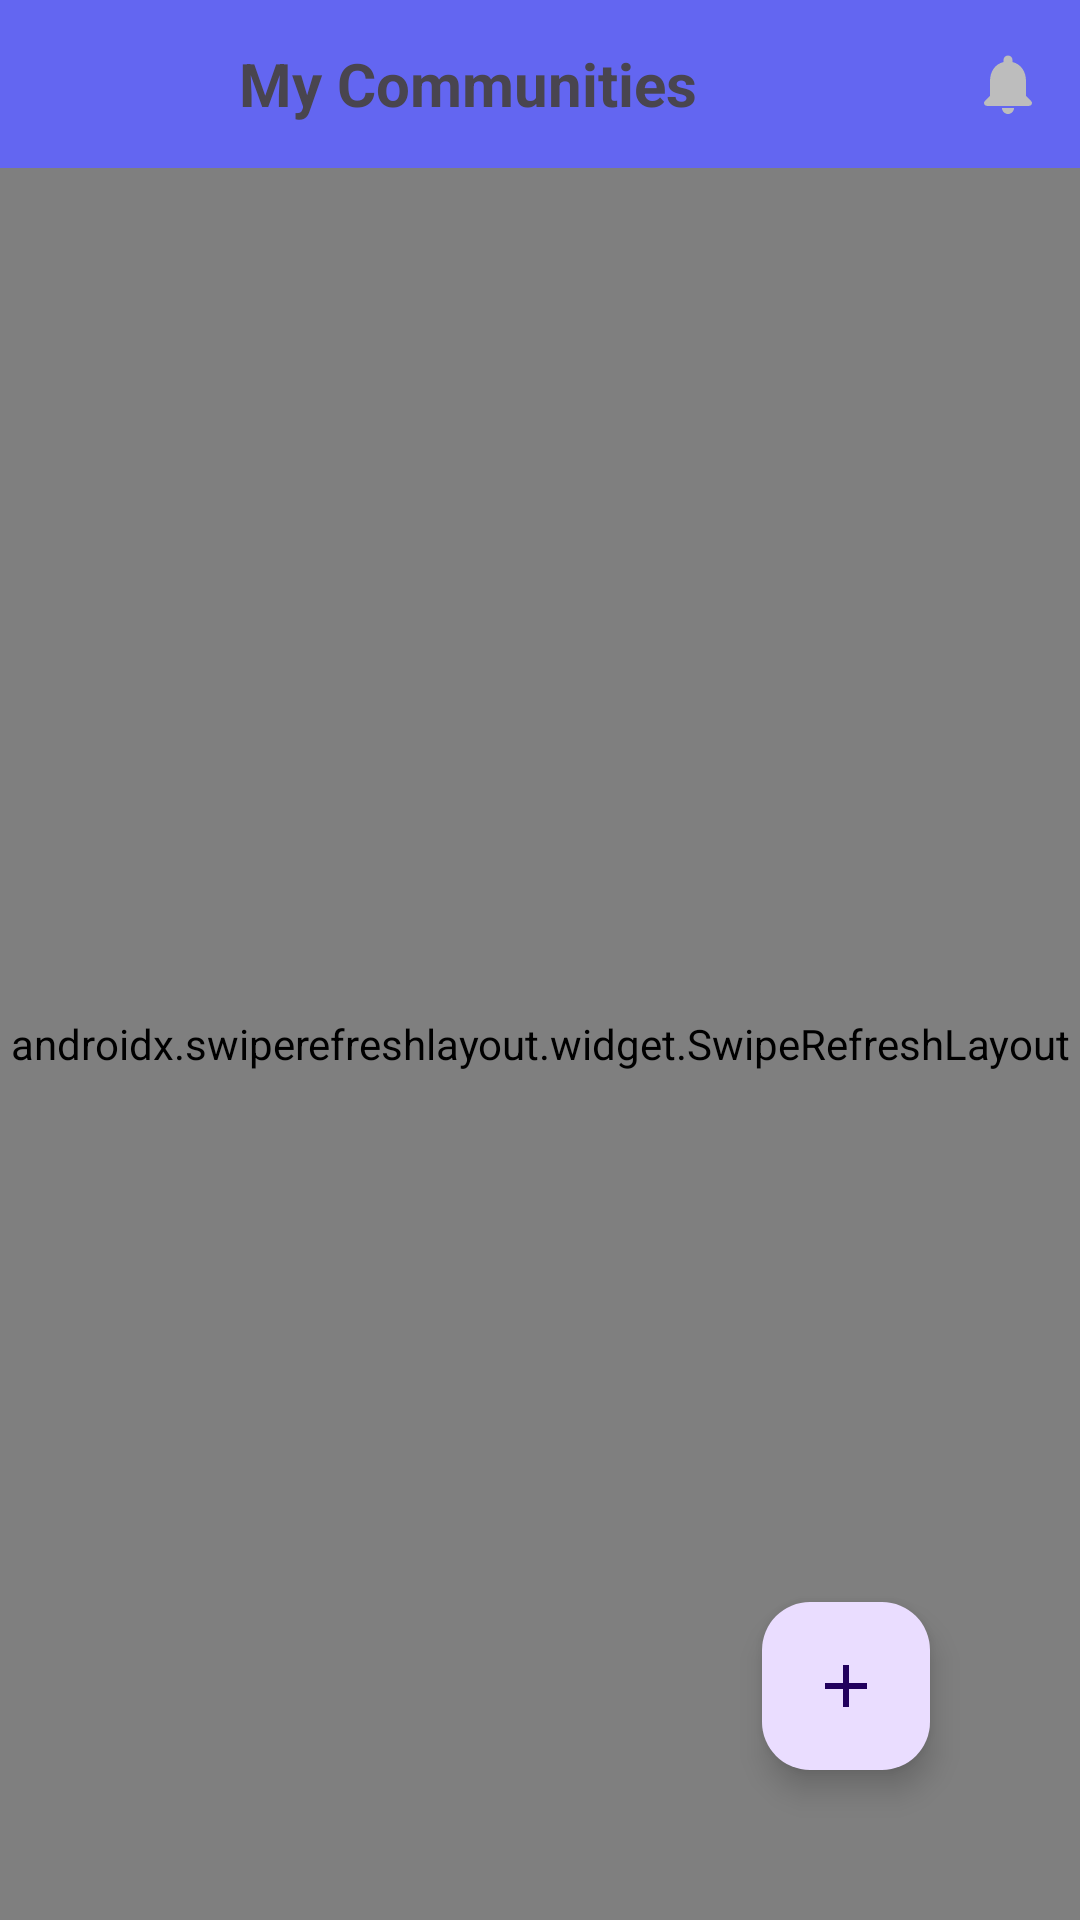

Named icons in this screenshot (1080×1920) and their bounding boxes, BBox(x1, y1, x2, y2):
add: BBox(762, 1602, 930, 1770)
Notification: BBox(984, 55, 1032, 114)
